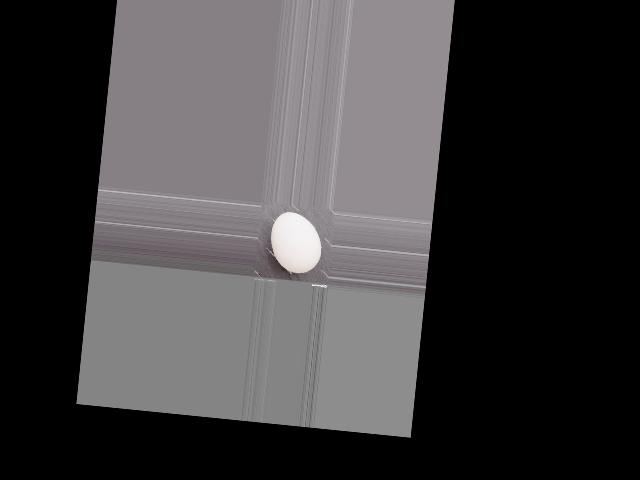egg: (267, 210, 324, 275)
